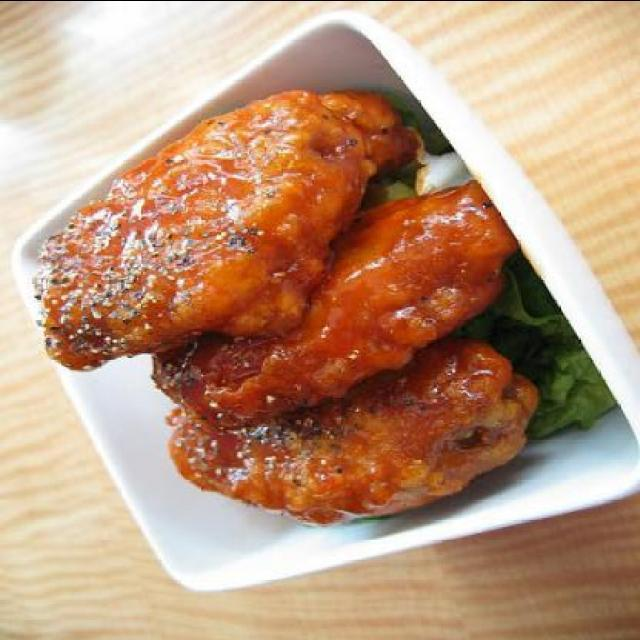Deep fried chicken wing: (36, 86, 526, 530)
